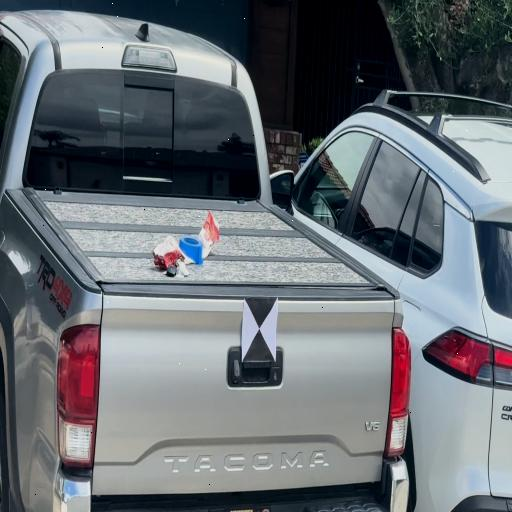target: (242, 298, 278, 362)
